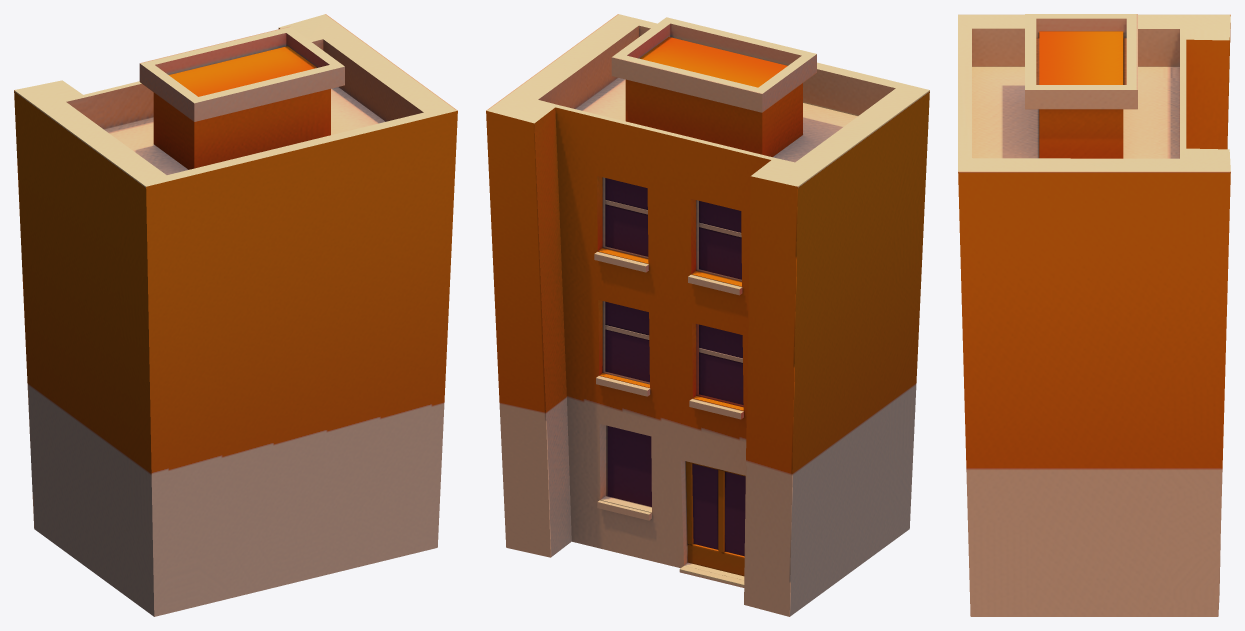
Rendered from building2.gltf.
3 renders of one model, left to right at view 1: azimuth 30°, elevation 25°; view 2: azimuth 150°, elevation 25°; view 3: azimuth 270°, elevation 25°, orthographic. The views are drawn at different scales.
Parts seen in each view (by area): view 1: Building2n_1; view 2: Building2n_1; view 3: Building2n_1.
Boxes of the visible parts, box(x1,y1,x2,y2) form: Building2n_1: box(14, 14, 457, 616); Building2n_1: box(486, 14, 929, 616); Building2n_1: box(958, 14, 1230, 616).
Size of the model in its own units: 3 by 4.39 by 2.2.
Materials: 1 (1 with a texture image).
